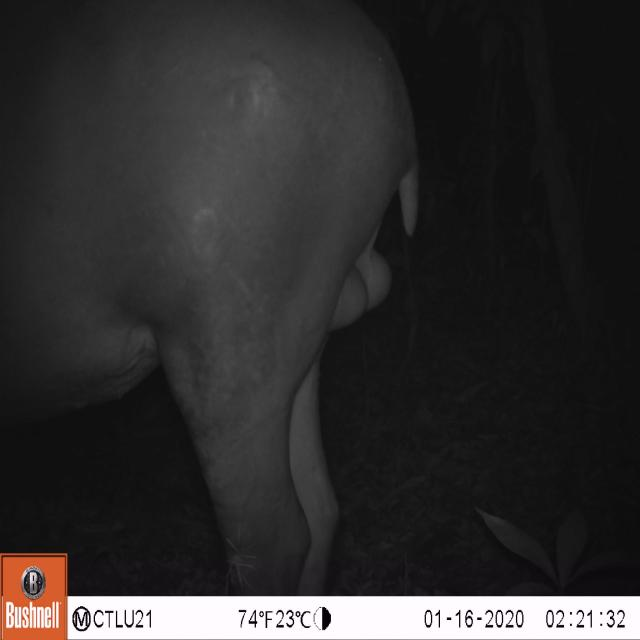Lowland Tapir: (0, 0, 427, 592)
